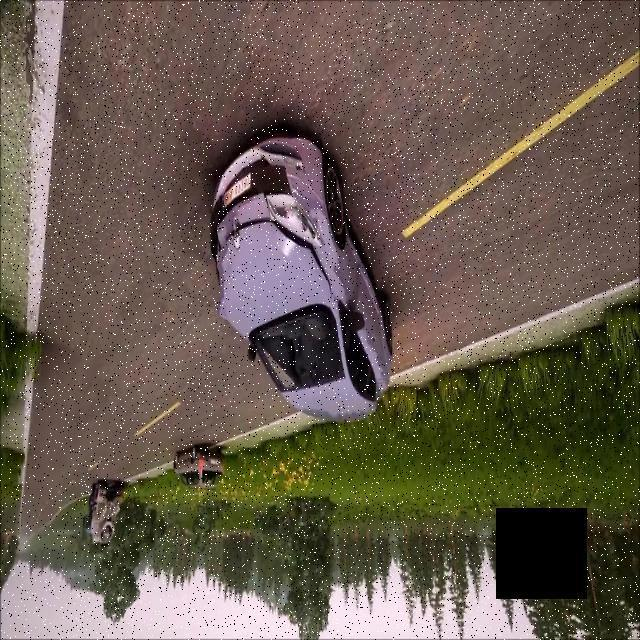vehicle: (194, 120, 432, 474)
